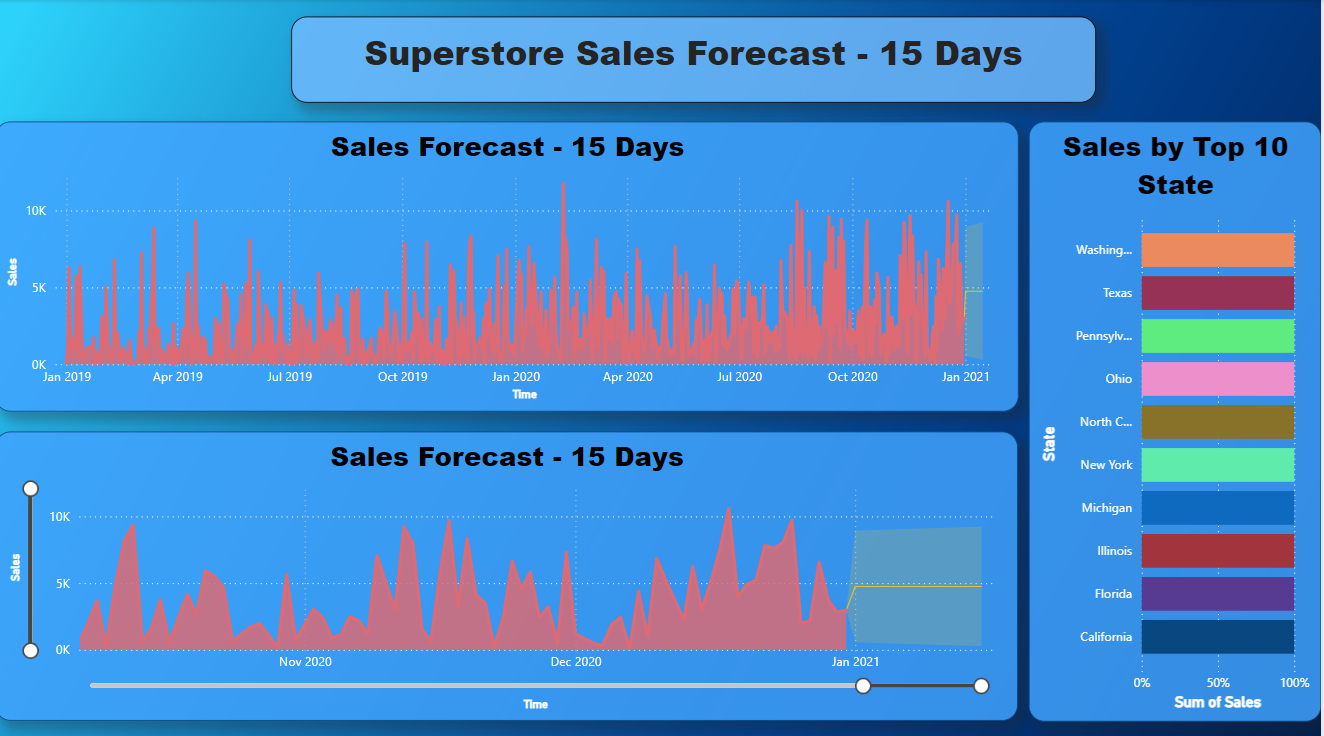

What the dashboard file says about the page in this screenshot:
{"tool":"powerbi","page":{"name":"Page 2","canvas":[1280,720],"ordinal":1},"visuals":[{"type":"lineChart","title":"Sales Forecast - 15 Days","fields":{"Y":["Sum(SuperStore_Sales_Dataset.Sales)"],"Category":["SuperStore_Sales_Dataset.Order Date"]},"box":[0,118.2,988.1,279.9],"z":0},{"type":"textbox","box":[285.9,16.7,776.9,83.3],"z":1000},{"type":"lineChart","title":"Sales Forecast - 15 Days","fields":{"Y":["Sum(SuperStore_Sales_Dataset.Sales)"],"Category":["SuperStore_Sales_Dataset.Order Date"]},"box":[0,417.9,987.2,279.5],"z":2000},{"type":"hundredPercentStackedBarChart","title":"Sales by Top 10 State","fields":{"Y":["Sum(SuperStore_Sales_Dataset.Sales)"],"Category":["SuperStore_Sales_Dataset.State"]},"box":[997.4,117.9,282.1,579.5],"z":3000}]}

Visuals, with their boxes in screenshot pixels (x1, y1, x2, y2), scaled from the page's 1280x720 canvas onto the 1324x736 screenshot:
"Sales Forecast - 15 Days" lineChart: {"left": 0, "top": 121, "right": 1022, "bottom": 407}
textbox: {"left": 296, "top": 17, "right": 1099, "bottom": 102}
"Sales Forecast - 15 Days" lineChart: {"left": 0, "top": 427, "right": 1021, "bottom": 713}
"Sales by Top 10 State" hundredPercentStackedBarChart: {"left": 1032, "top": 121, "right": 1323, "bottom": 713}
